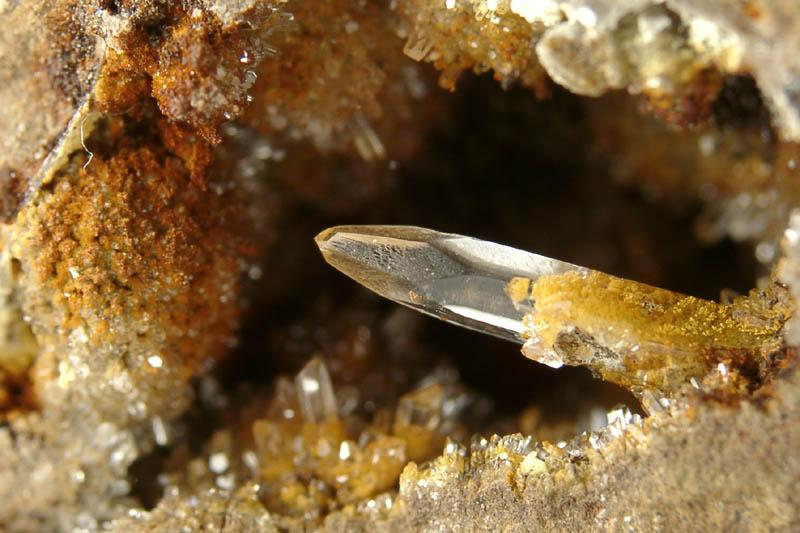calcite: (315, 226, 590, 342)
